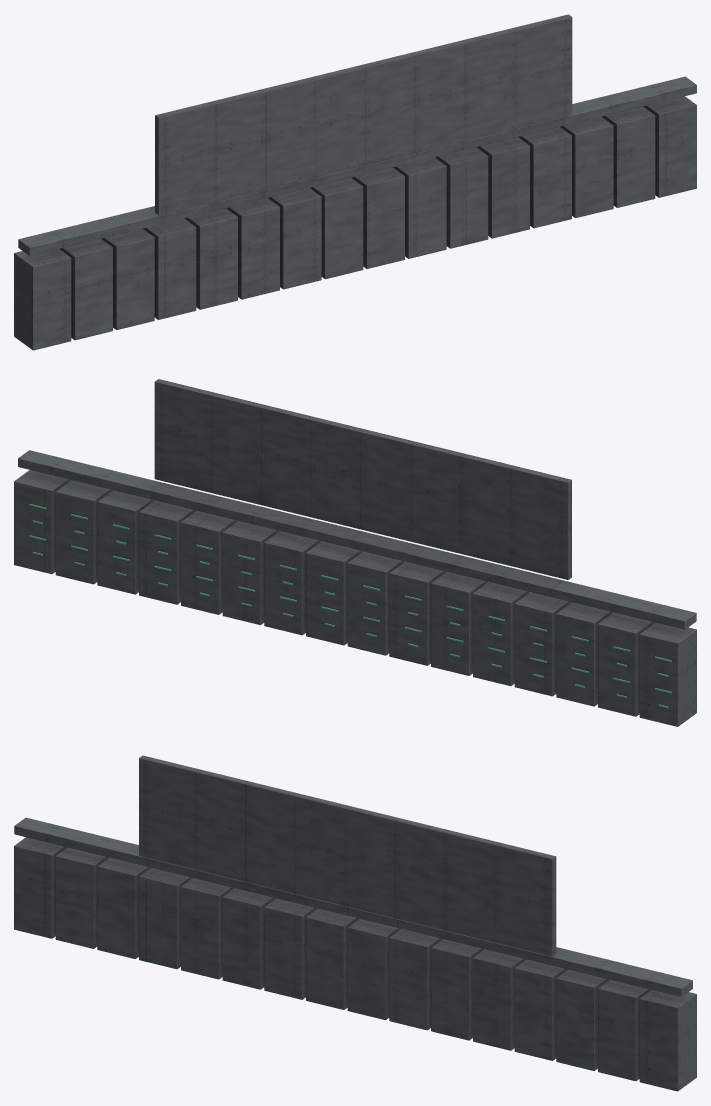
Rendered from base_intel_wall.glb.
The picture shows the model from 3 angles, top to bottom: view 1: azimuth 30°, elevation 25°; view 2: azimuth 150°, elevation 25°; view 3: azimuth 330°, elevation 25°; orthographic projection.
Visible parts, largest first — view 1: base_intel_wall; view 2: base_intel_wall; view 3: base_intel_wall.
Part boxes in pixels (x1=…): base_intel_wall: x1=14, y1=14, x2=696, y2=350; base_intel_wall: x1=14, y1=379, x2=696, y2=726; base_intel_wall: x1=14, y1=755, x2=696, y2=1091.
Size of the model in its own units: 20 by 5.8 by 1.05.
Materials: 3 (3 with a texture image).
